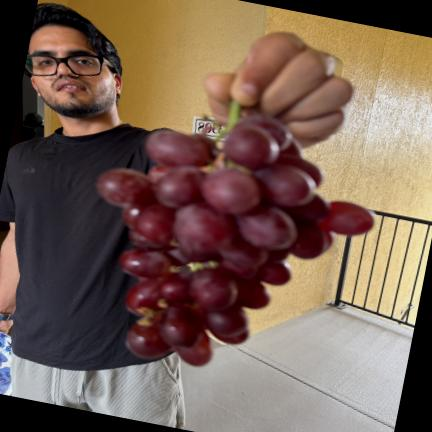grape_cluster: (97, 101, 375, 366)
